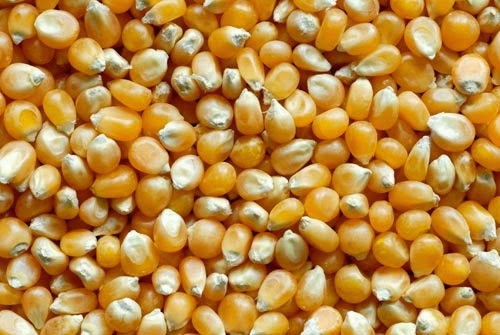corn: (88, 107, 143, 143), (451, 52, 490, 96), (43, 88, 77, 136), (153, 207, 189, 252), (127, 139, 172, 174), (344, 119, 378, 165), (409, 232, 443, 277), (265, 98, 296, 144)
